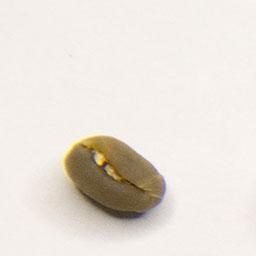peaberry: (60, 132, 169, 219)
